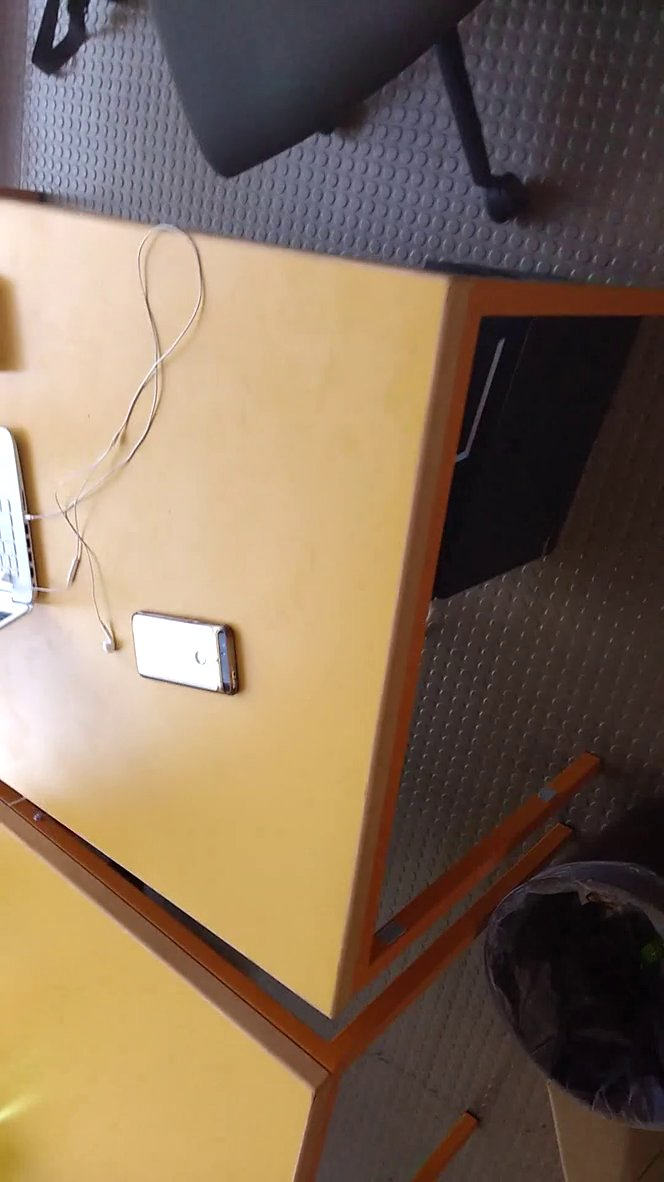phone: (123, 603, 259, 724)
